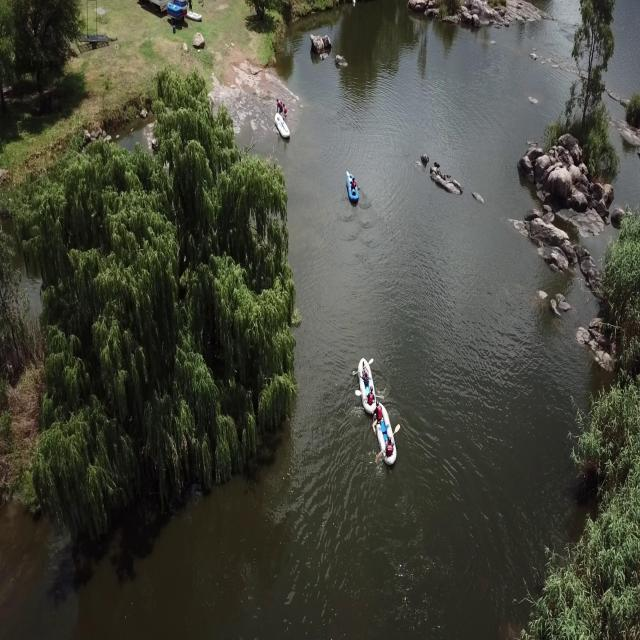kayak: (351, 353, 383, 416), (372, 404, 400, 469), (344, 172, 362, 208)
